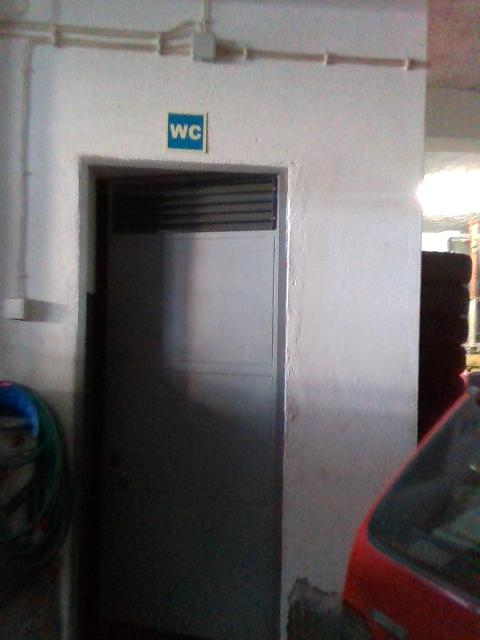door: (74, 158, 288, 634)
